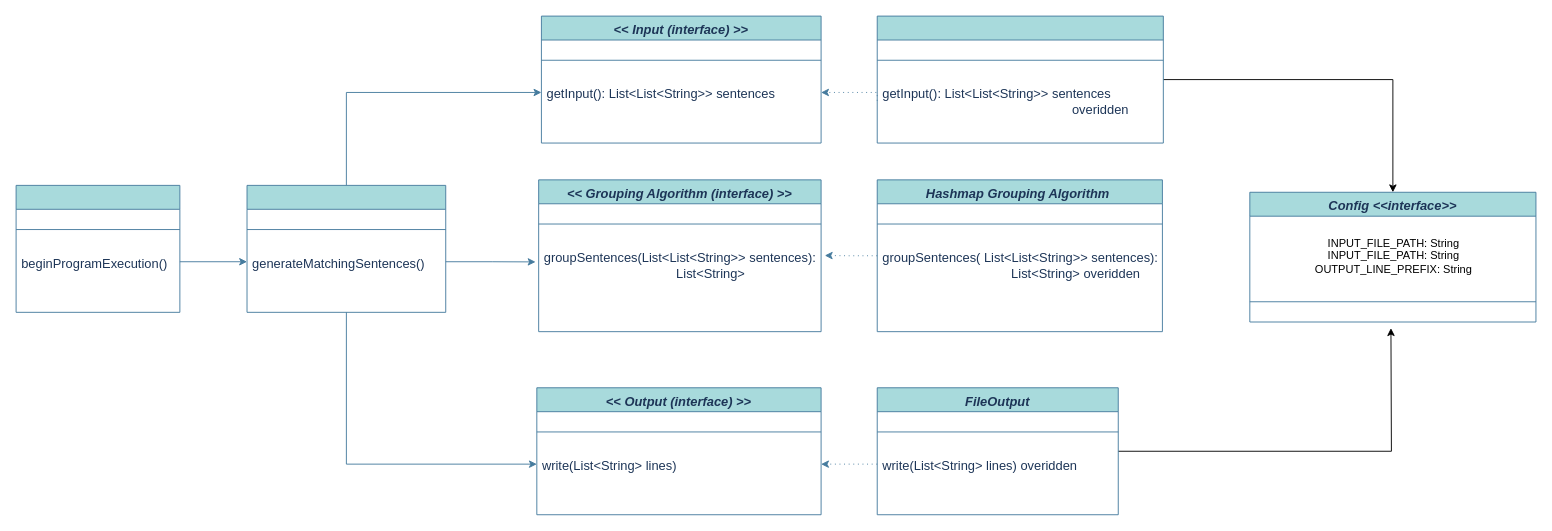
Image size: 1552x531. Some labels were removed from this diagram. Here are the shapes that lost their labels. From the top down, the box of each, then its label:
(876, 15, 1163, 143): FileInput
(15, 184, 180, 312): Driver
(246, 184, 446, 312): ProgramExecution
